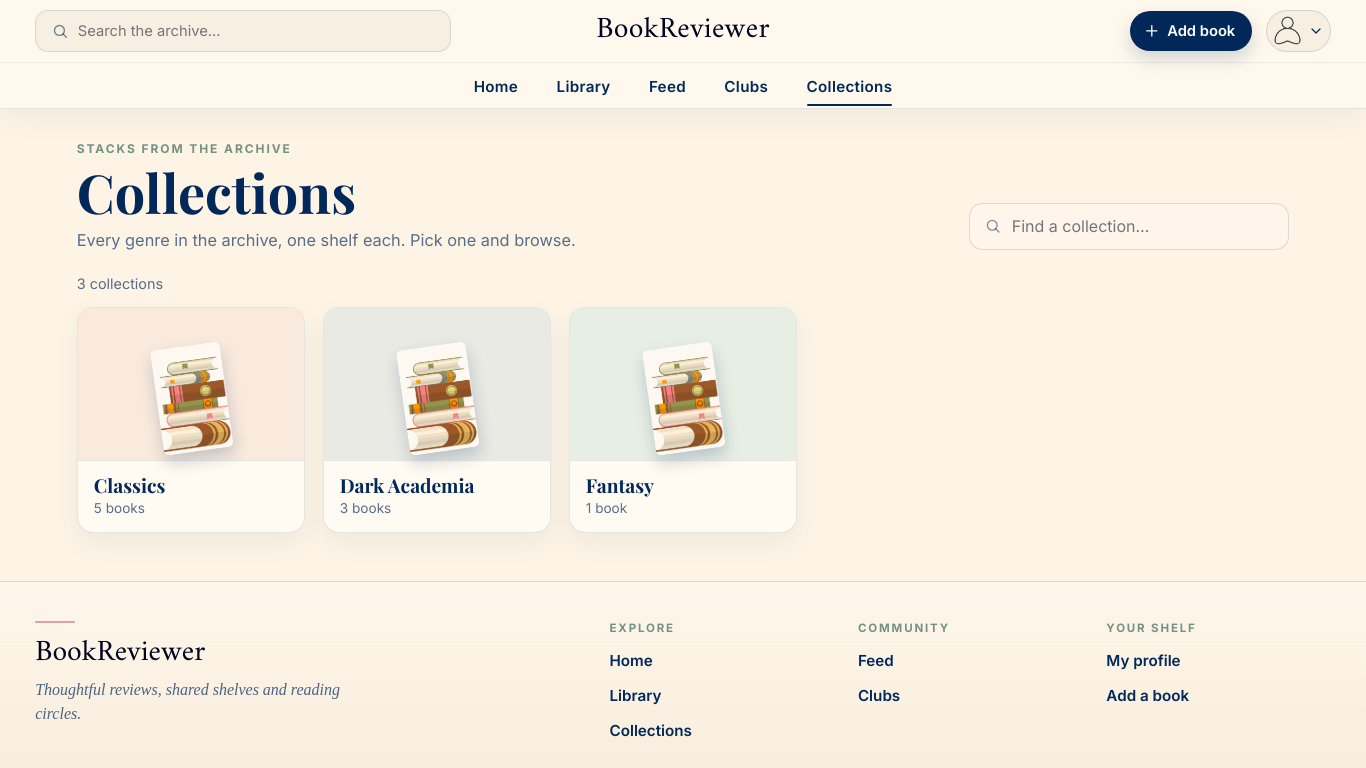
Scenario: CollectionsPage › offers an archive search when no collection matches
Expected: the text "5 books" is shown, x1=94 y1=500 x2=145 y2=516
In the search field labelled "Find a collection": [1129, 226] box x1=969 y1=203 x2=1289 y2=250, type "solarpunk"
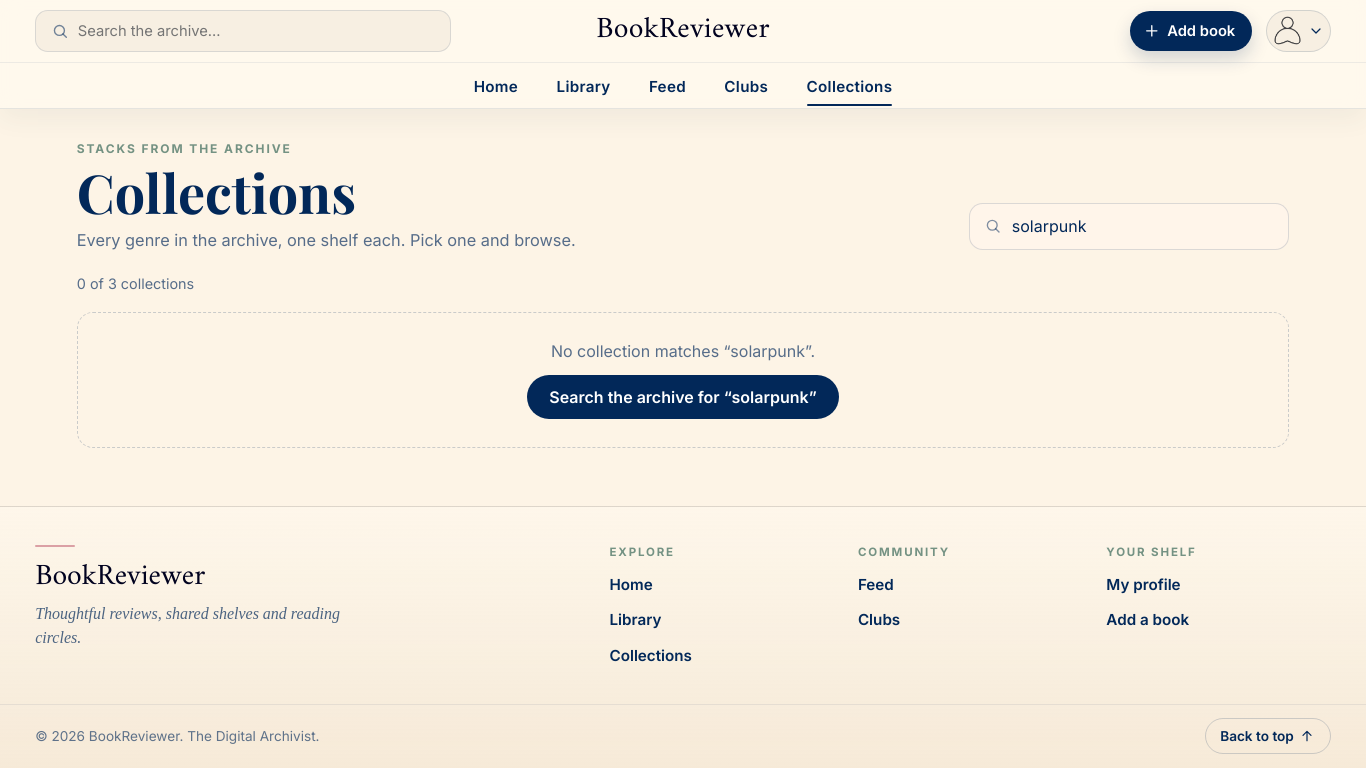
Expected: the text "No collection matches “solarpunk”." is shown, x1=551 y1=341 x2=815 y2=361
